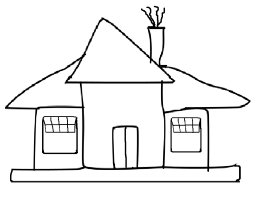door: (109, 120, 141, 172)
open_window: (39, 112, 80, 157), (168, 114, 203, 156)
roof: (63, 17, 175, 87)
smoking_chimney: (139, 4, 169, 65)
wall: (78, 79, 167, 173)
